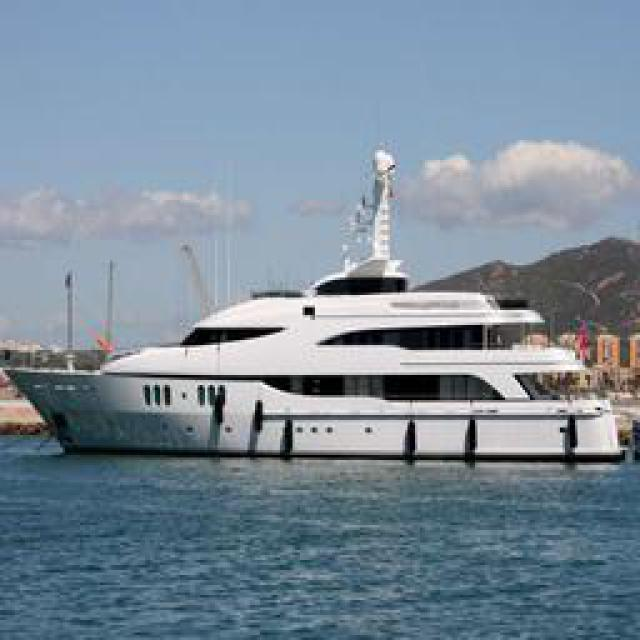Ship: (10, 235, 635, 458)
